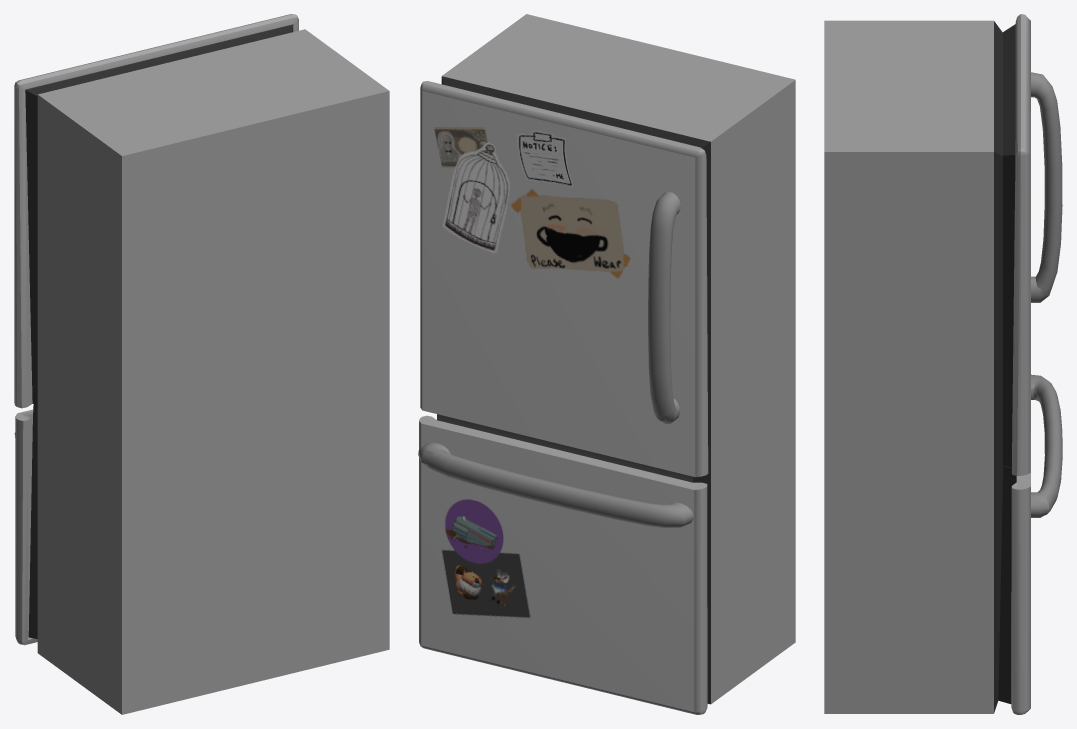
Rendered from Fridge1.fbx.
3 renders of one model, left to right at view 1: azimuth 30°, elevation 25°; view 2: azimuth 150°, elevation 25°; view 3: azimuth 270°, elevation 25°, orthographic.
Visible parts, largest first — view 1: Fridge1; view 2: Fridge1; view 3: Fridge1.
Part boxes in pixels (x1,y1,x2,y2): Fridge1: (14,14,389,714); Fridge1: (418,14,795,714); Fridge1: (824,14,1062,714).
Size of the model in its own units: 35.7 by 67.61 by 25.75.
1 material, 1 textured.
